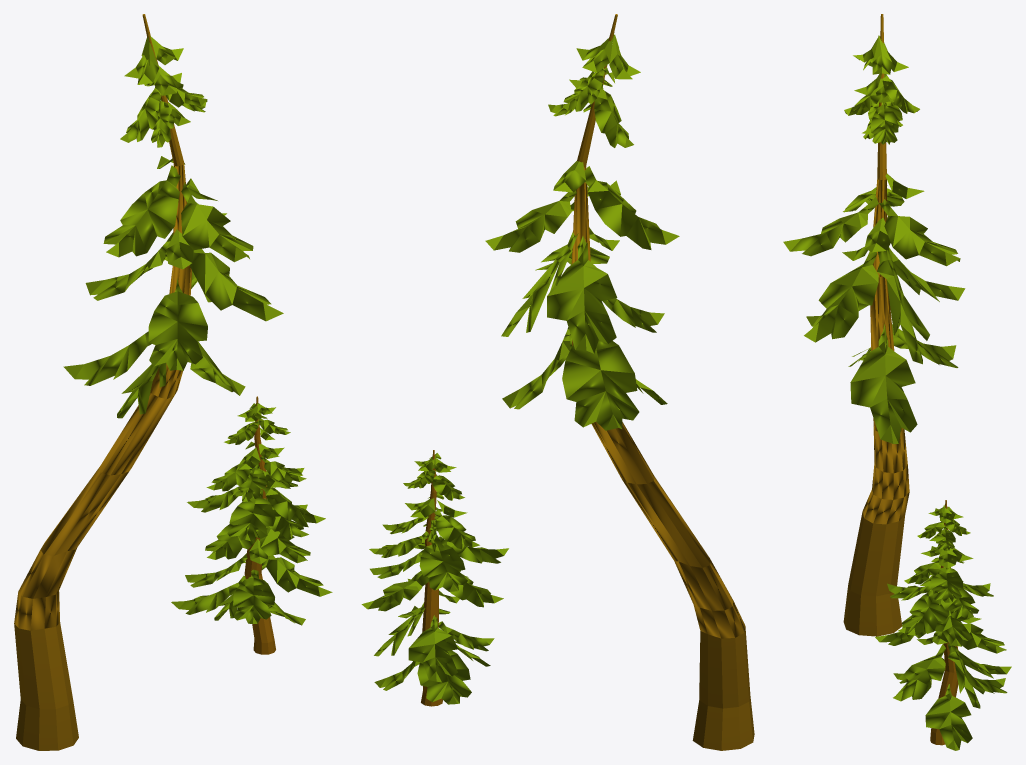
File: free-pack---tree-196525.glb
3 views of the same model, side by side, from view 1: azimuth 30°, elevation 25°; view 2: azimuth 150°, elevation 25°; view 3: azimuth 270°, elevation 25° (orthographic). The views are drawn at different scales.
Visible parts, largest first — view 1: PropMesh; view 2: PropMesh; view 3: PropMesh.
Part boxes in pixels (box(x1,y1,x2,y2)): PropMesh: box(14, 14, 332, 750); PropMesh: box(361, 14, 754, 750); PropMesh: box(783, 14, 1011, 750).
Bounding box in the file's own units: 1.1 × 2.2 × 0.6945.
Materials: 1 (1 with a texture image).
